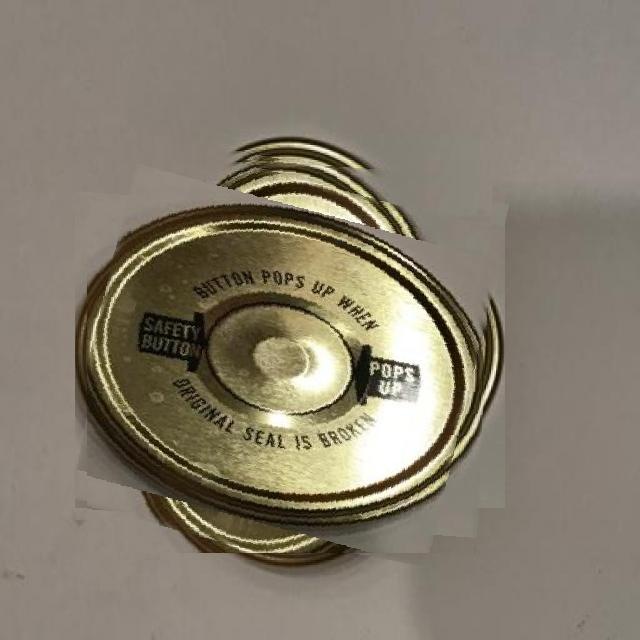recyclable: (87, 148, 493, 553)
